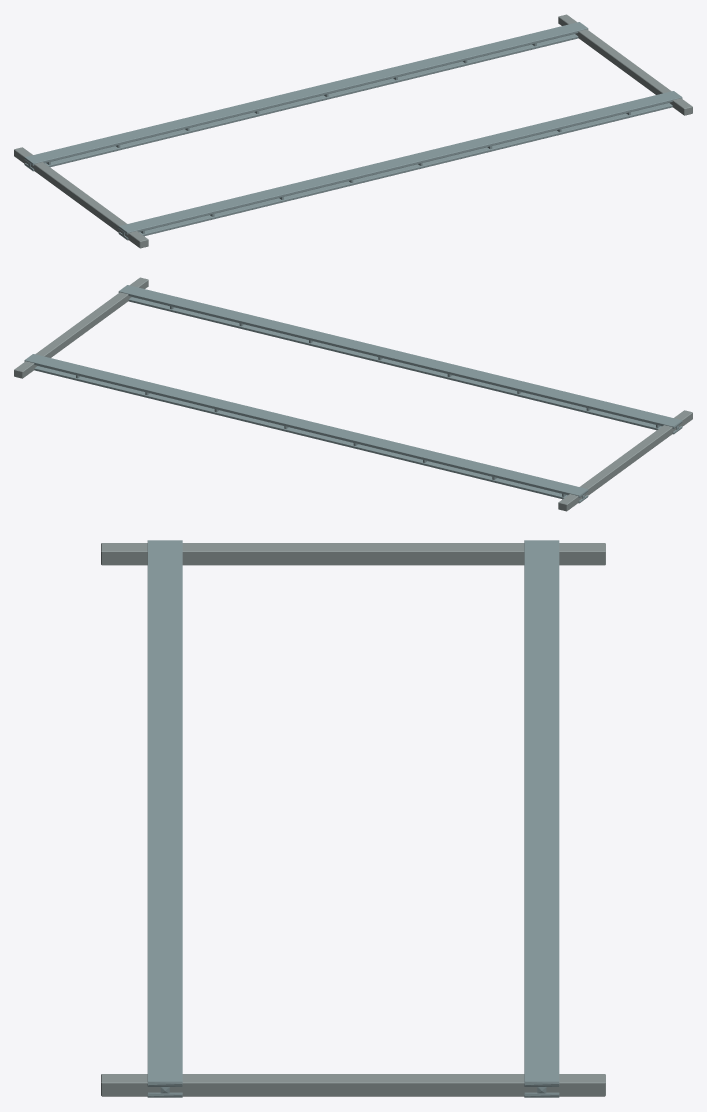
Rendered from RoadPlan_DeckStructure_L16.glb.
3 renders of one model, top to bottom at view 1: azimuth 30°, elevation 25°; view 2: azimuth 150°, elevation 25°; view 3: azimuth 270°, elevation 25°, orthographic. The views are drawn at different scales.
Parts seen in each view (by area): view 1: RoadPlan_DeckStructure_L16_Girder_-1, RoadPlan_DeckStructure_L16_Girder_1, RoadPlan_DeckStructure_L16_Crosshead_-1, RoadPlan_DeckStructure_L16_Crosshead_1; view 2: RoadPlan_DeckStructure_L16_Girder_1, RoadPlan_DeckStructure_L16_Girder_-1, RoadPlan_DeckStructure_L16_Crosshead_-1, RoadPlan_DeckStructure_L16_Crosshead_1; view 3: RoadPlan_DeckStructure_L16_Girder_-1, RoadPlan_DeckStructure_L16_Girder_1, RoadPlan_DeckStructure_L16_Crosshead_1, RoadPlan_DeckStructure_L16_Crosshead_-1.
Part boxes in pixels (x1,y1,x2,y2): RoadPlan_DeckStructure_L16_Girder_-1: [118, 91, 682, 240]; RoadPlan_DeckStructure_L16_Girder_1: [24, 22, 588, 171]; RoadPlan_DeckStructure_L16_Crosshead_-1: [14, 147, 148, 248]; RoadPlan_DeckStructure_L16_Crosshead_1: [558, 14, 692, 115]; RoadPlan_DeckStructure_L16_Girder_1: [24, 354, 588, 503]; RoadPlan_DeckStructure_L16_Girder_-1: [118, 285, 682, 434]; RoadPlan_DeckStructure_L16_Crosshead_-1: [558, 410, 692, 511]; RoadPlan_DeckStructure_L16_Crosshead_1: [14, 277, 148, 378]; RoadPlan_DeckStructure_L16_Girder_-1: [147, 540, 182, 1097]; RoadPlan_DeckStructure_L16_Girder_1: [524, 540, 559, 1097]; RoadPlan_DeckStructure_L16_Crosshead_1: [101, 1074, 605, 1096]; RoadPlan_DeckStructure_L16_Crosshead_-1: [101, 543, 605, 565].
Bounding box in the file's own units: 16 × 0.22 × 6.3.
